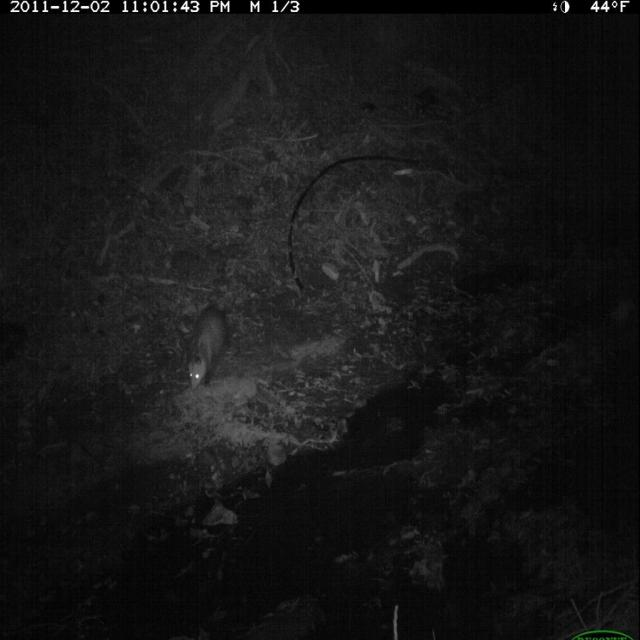opossum: (185, 297, 234, 399)
